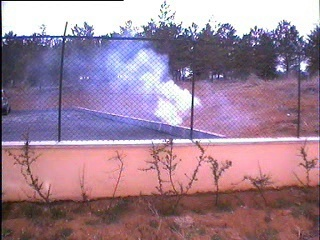smoke: (88, 30, 197, 127)
